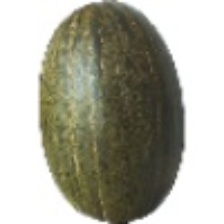honeydew: (55, 0, 193, 199)
